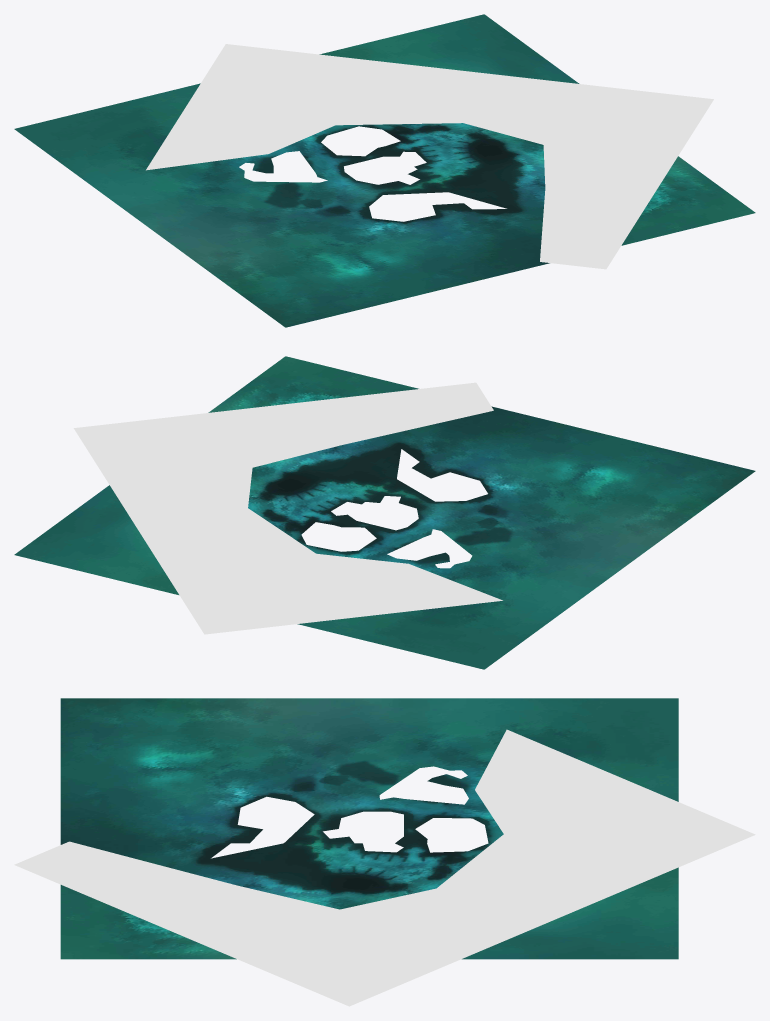
The model's file is T_WaterPlane.fbx.
The picture shows the model from 3 angles, top to bottom: view 1: azimuth 30°, elevation 25°; view 2: azimuth 150°, elevation 25°; view 3: azimuth 270°, elevation 25°; orthographic projection. The views are drawn at different scales.
Parts seen in each view (by area): view 1: T_WaterPlane, T_Foam_Plane_01; view 2: T_WaterPlane, T_Foam_Plane_01; view 3: T_WaterPlane, T_Foam_Plane_01.
Boxes of the visible parts, x1,y1,x2,y2 form: T_WaterPlane: (14,14,755,327); T_Foam_Plane_01: (146,44,713,269); T_WaterPlane: (14,356,755,669); T_Foam_Plane_01: (73,382,502,634); T_WaterPlane: (60,698,678,959); T_Foam_Plane_01: (14,729,755,1006).
Size of the model in its own units: 468 by 0.1 by 476.
